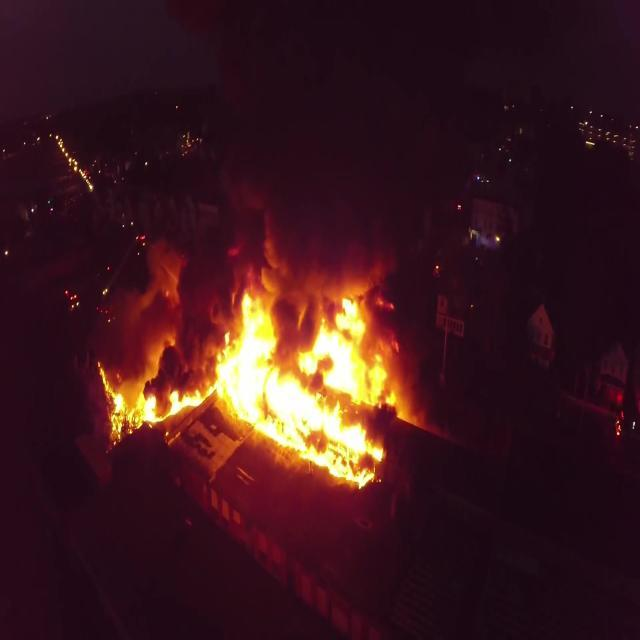Fire: (92, 266, 416, 490)
Smoke: (105, 0, 548, 441)
